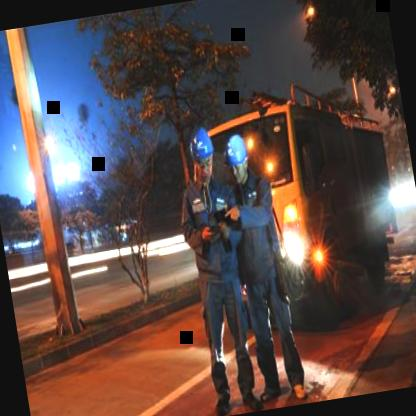helmet: (185, 122, 220, 182), (220, 132, 254, 183)
